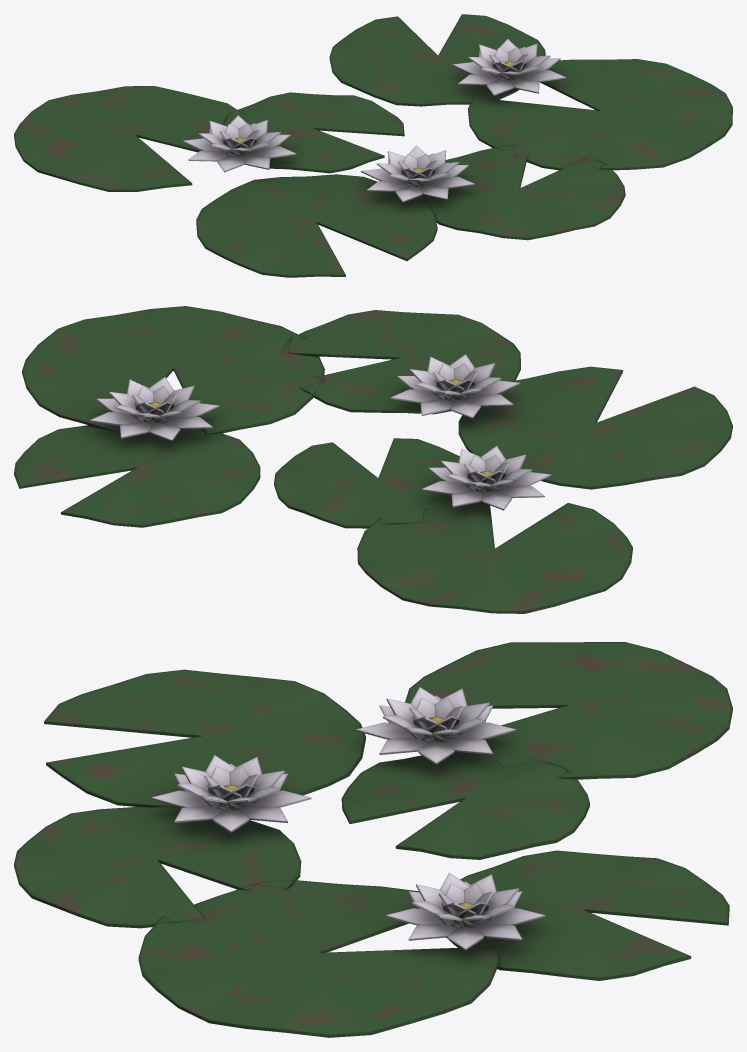
Rendered from LilyPads.fbx.
3 renders of one model, top to bottom at view 1: azimuth 30°, elevation 25°; view 2: azimuth 150°, elevation 25°; view 3: azimuth 270°, elevation 25°, orthographic. The views are drawn at different scales.
Visible parts, largest first — view 1: LilyPads; view 2: LilyPads; view 3: LilyPads.
Boxes of the visible parts, x1=… form: LilyPads: x1=14, y1=14, x2=732, y2=277; LilyPads: x1=14, y1=306, x2=732, y2=613; LilyPads: x1=14, y1=642, x2=732, y2=1037.
Size of the model in its own units: 635 by 34.14 by 491.
